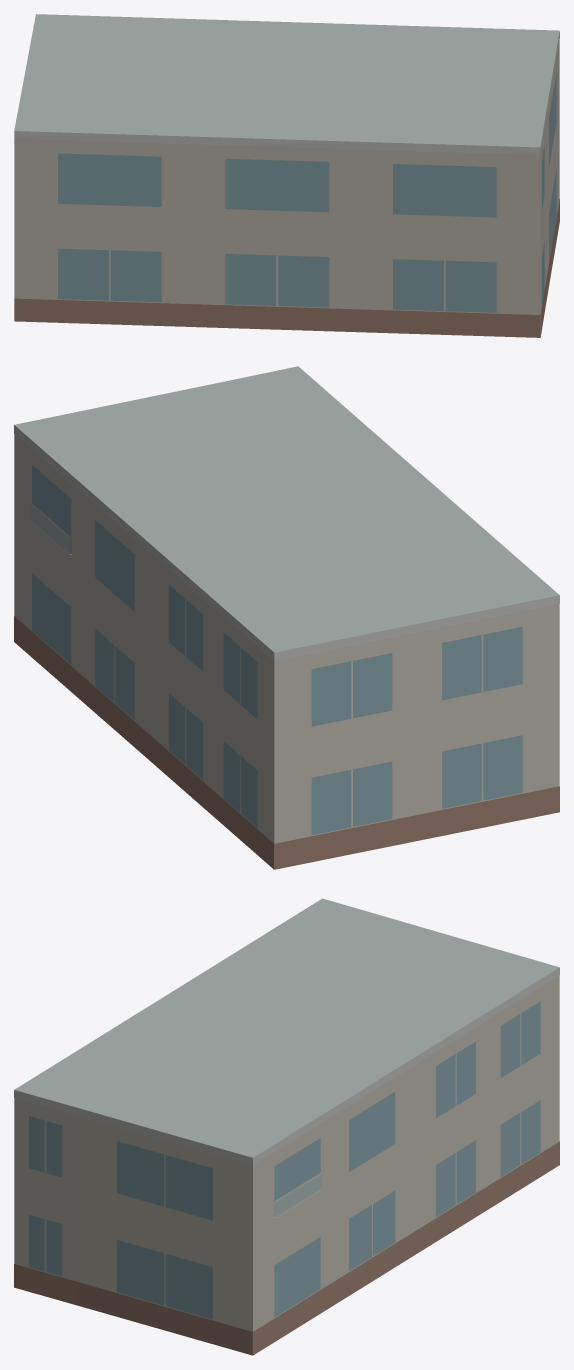
Rendered from survey-upis-32707458.glb.
3 views of the same model, one above another, from view 1: azimuth 30°, elevation 25°; view 2: azimuth 150°, elevation 25°; view 3: azimuth 270°, elevation 25° (orthographic). The views are drawn at different scales.
Parts seen in each view (by area): view 1: survey-upis-32707458.tmp; view 2: survey-upis-32707458.tmp; view 3: survey-upis-32707458.tmp.
Boxes of the visible parts, x1,y1,x2,y2 form: survey-upis-32707458.tmp: [14, 14, 559, 337]; survey-upis-32707458.tmp: [14, 366, 559, 869]; survey-upis-32707458.tmp: [14, 898, 559, 1355].
Bounding box in the file's own units: 17.18 × 6.1 × 15.27.
